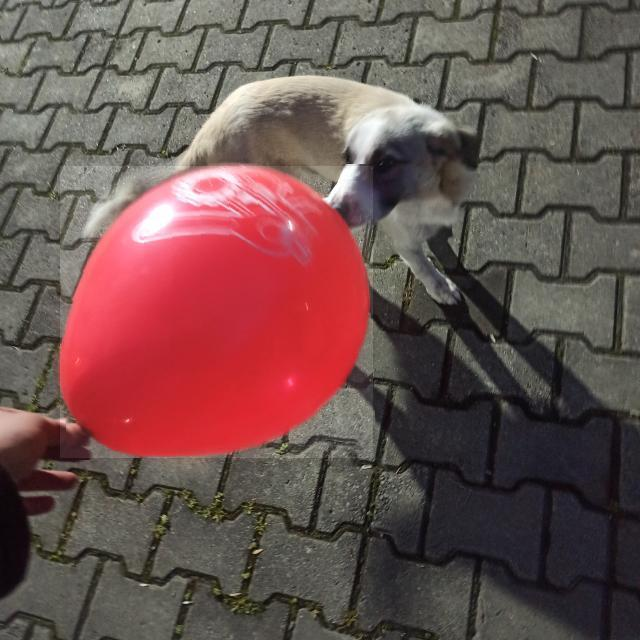balloon: (56, 164, 367, 458)
